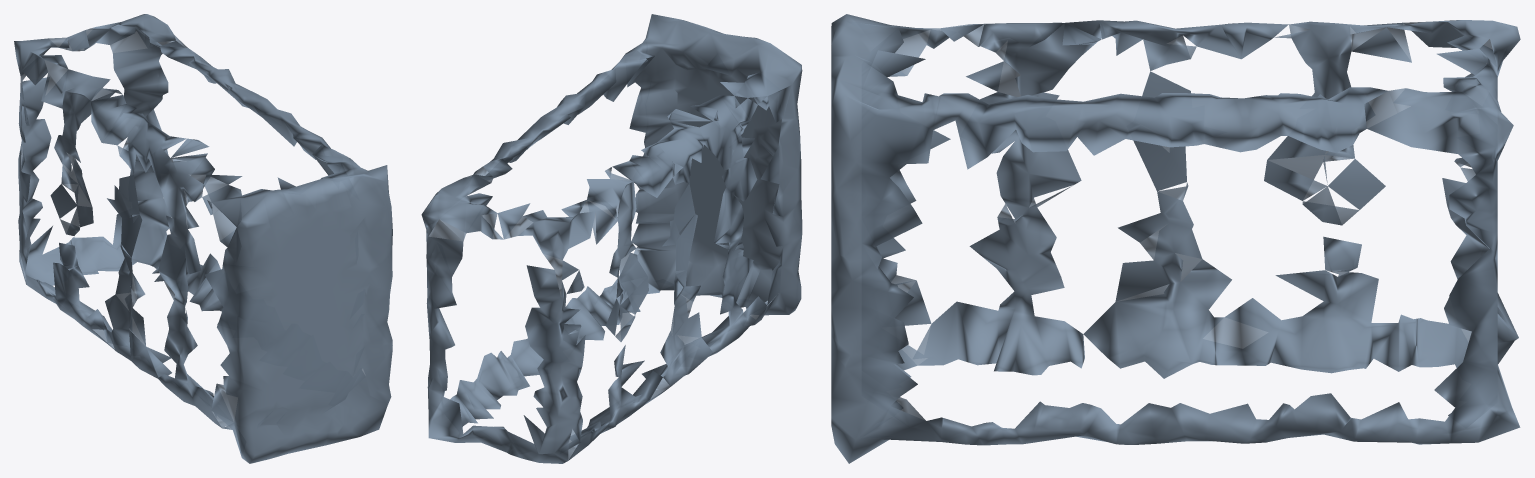
Rendered from dresser_0065_original.obj.
3 views of the same model, side by side, from view 1: azimuth 30°, elevation 25°; view 2: azimuth 150°, elevation 25°; view 3: azimuth 270°, elevation 25° (orthographic). The views are drawn at different scales.
Bounding box in the file's own units: 0.5555 × 0.926 × 1.55.
